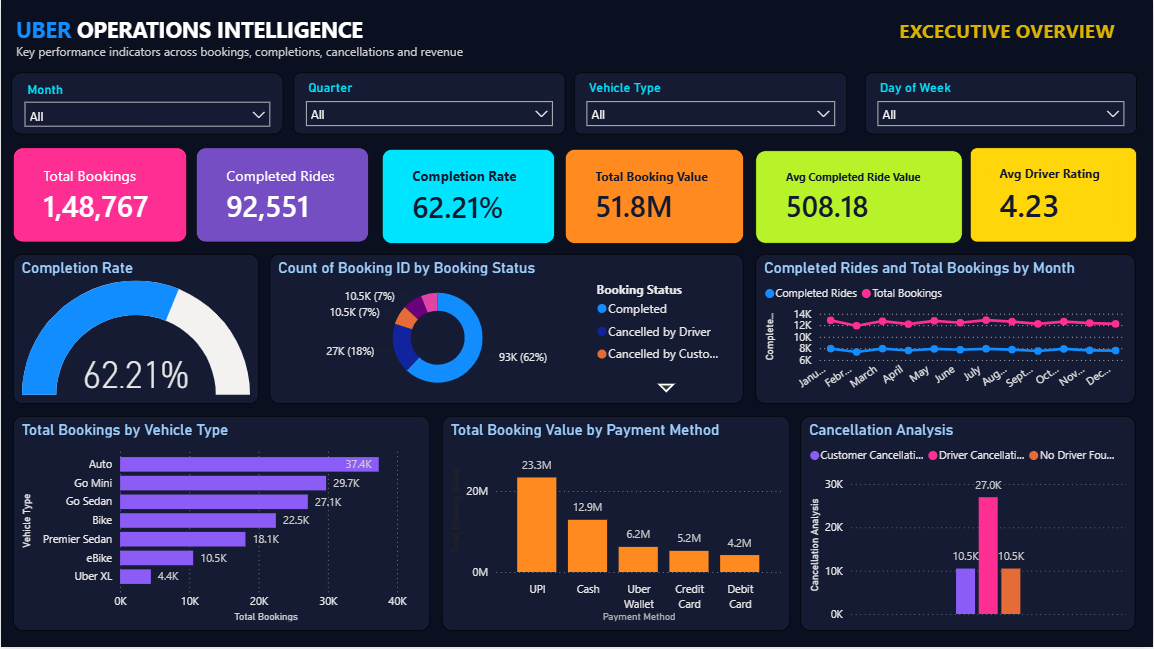

The page's visual inventory and layout, read from the dashboard file:
{"tool":"powerbi","page":{"name":"Excecutive Overview","canvas":[1280,720],"ordinal":0},"visuals":[{"type":"cardVisual","fields":{"Data":["uber_ride_data.Total Bookings"]},"box":[13.3,165,193.3,105],"z":0},{"type":"cardVisual","fields":{"Data":["uber_ride_data.Completed Rides"]},"box":[216.7,165,191.7,105],"z":1000},{"type":"cardVisual","fields":{"Data":["uber_ride_data.Completion Rate"]},"box":[423.3,166.7,191.7,105],"z":2000},{"type":"cardVisual","fields":{"Data":["uber_ride_data.Total Booking Value"]},"box":[626.7,166.7,198.3,105],"z":3000},{"type":"cardVisual","fields":{"Data":["uber_ride_data.Avg Completed Ride Value"]},"box":[838.3,168.3,230,103.3],"z":4000},{"type":"cardVisual","fields":{"Data":["uber_ride_data.Avg Driver Rating"]},"box":[1076.7,165,185,105],"z":5000},{"type":"gauge","fields":{"Y":["uber_ride_data.Completion Rate"]},"box":[13.3,283.3,273.3,166.7],"z":6000},{"type":"donutChart","fields":{"Category":["uber_ride_data.Booking Status"],"Y":["CountNonNull(uber_ride_data.Booking ID)"]},"box":[298.3,283.3,526.7,166.7],"z":7000},{"type":"lineChart","fields":{"Y":["uber_ride_data.Completed Rides","uber_ride_data.Total Bookings"],"Category":["Calendar.Date.Variation.Date Hierarchy.Month"]},"box":[838.3,283.3,421.7,166.7],"z":8000},{"type":"clusteredBarChart","fields":{"Category":["uber_ride_data.Vehicle Type"],"Y":["uber_ride_data.Total Bookings"]},"box":[13.3,463.3,463.3,238.3],"z":9000},{"type":"clusteredColumnChart","fields":{"Y":["uber_ride_data.Total Booking Value"],"Category":["uber_ride_data.Payment Method"]},"box":[490,463.3,386.7,238.3],"z":10000},{"type":"clusteredColumnChart","title":"Cancellation Analysis","fields":{"Y":["uber_ride_data.Customer Cancellations","uber_ride_data.Driver Cancellations","uber_ride_data.No Driver Found"]},"box":[888.5,462.6,372.3,239],"z":11000},{"type":"slicer","fields":{"Values":["Calendar.Year Month"]},"box":[11.7,81.7,301.7,68.3],"z":12000},{"type":"slicer","fields":{"Values":["Calendar.Quarter"]},"box":[325,81.7,301.7,68.3],"z":13000},{"type":"slicer","fields":{"Values":["uber_ride_data.Vehicle Type"]},"box":[636.7,81.7,303.3,68.3],"z":14000},{"type":"slicer","fields":{"Values":["Calendar.Day of Week"]},"box":[960,81.7,301.7,68.3],"z":15000},{"type":"textbox","box":[11.7,11.7,1250,70],"z":16000}]}

Visuals, with their boxes in screenshot pixels (x1, y1, x2, y2), scaled from the page's 1280x720 canvas onto the 1154x649 screenshot:
cardVisual - uber_ride_data.Total Bookings: [x1=12, y1=149, x2=186, y2=243]
cardVisual - uber_ride_data.Completed Rides: [x1=195, y1=149, x2=368, y2=243]
cardVisual - uber_ride_data.Completion Rate: [x1=382, y1=150, x2=554, y2=245]
cardVisual - uber_ride_data.Total Booking Value: [x1=565, y1=150, x2=744, y2=245]
cardVisual - uber_ride_data.Avg Completed Ride Value: [x1=756, y1=152, x2=963, y2=245]
cardVisual - uber_ride_data.Avg Driver Rating: [x1=971, y1=149, x2=1138, y2=243]
gauge - uber_ride_data.Completion Rate: [x1=12, y1=255, x2=258, y2=406]
donutChart - uber_ride_data.Booking Status x CountNonNull(uber_ride_data.Booking ID): [x1=269, y1=255, x2=744, y2=406]
lineChart - uber_ride_data.Completed Rides x uber_ride_data.Total Bookings: [x1=756, y1=255, x2=1136, y2=406]
clusteredBarChart - uber_ride_data.Vehicle Type x uber_ride_data.Total Bookings: [x1=12, y1=418, x2=430, y2=632]
clusteredColumnChart - uber_ride_data.Total Booking Value x uber_ride_data.Payment Method: [x1=442, y1=418, x2=790, y2=632]
"Cancellation Analysis" clusteredColumnChart: [x1=801, y1=417, x2=1137, y2=632]
slicer - Calendar.Year Month: [x1=11, y1=74, x2=283, y2=135]
slicer - Calendar.Quarter: [x1=293, y1=74, x2=565, y2=135]
slicer - uber_ride_data.Vehicle Type: [x1=574, y1=74, x2=847, y2=135]
slicer - Calendar.Day of Week: [x1=866, y1=74, x2=1138, y2=135]
textbox: [x1=11, y1=11, x2=1138, y2=74]
